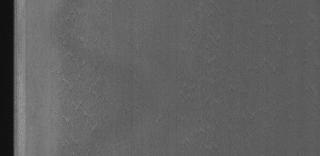silk spot: (54, 9, 106, 138)
